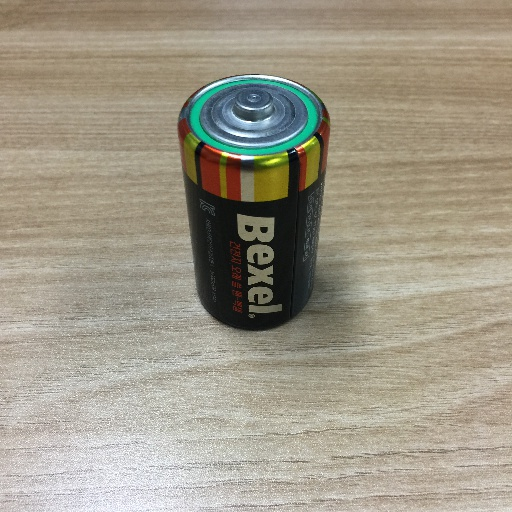Battery_0: (173, 63, 337, 341)
